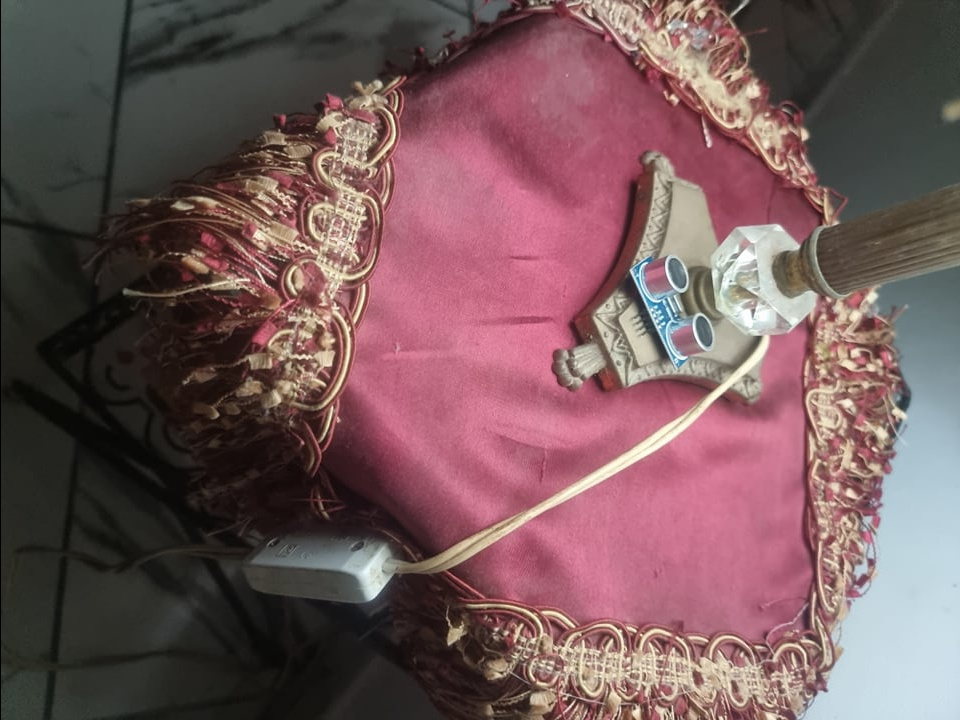SENSOR: (625, 243, 715, 371)
